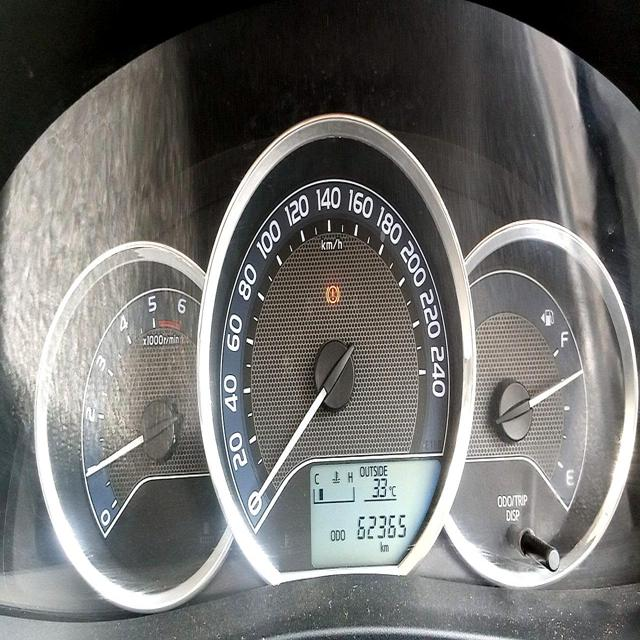odometer: (355, 511, 408, 544)
